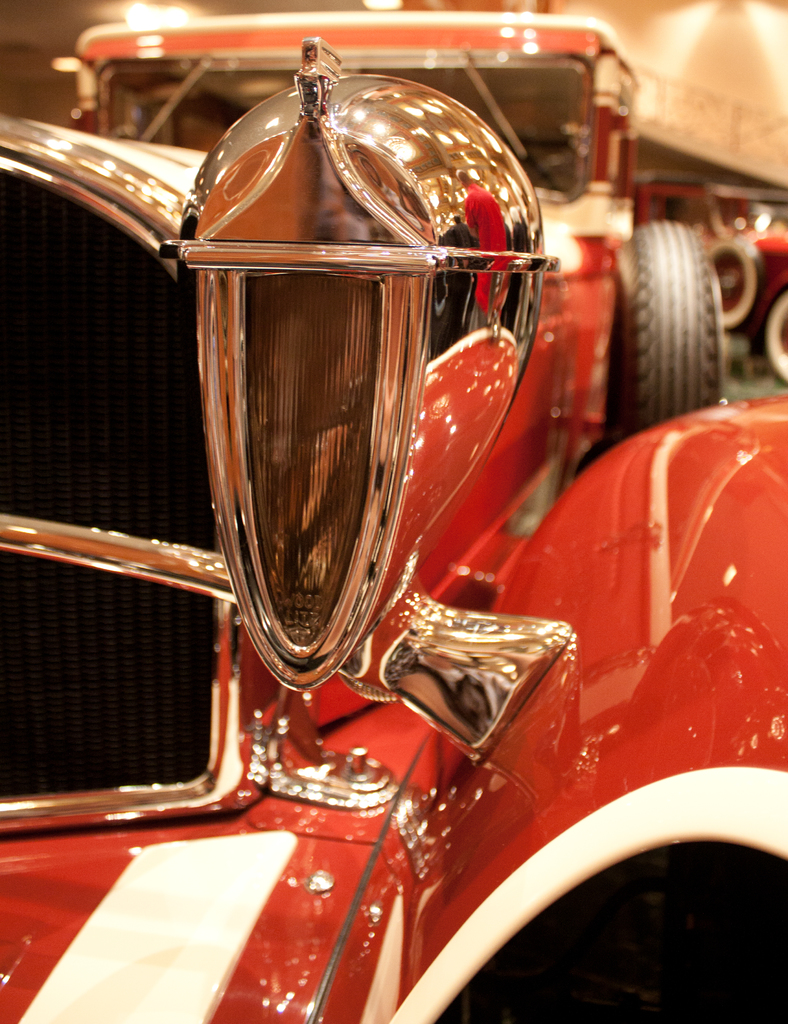Car: (0, 10, 787, 1023), (635, 171, 787, 385)
